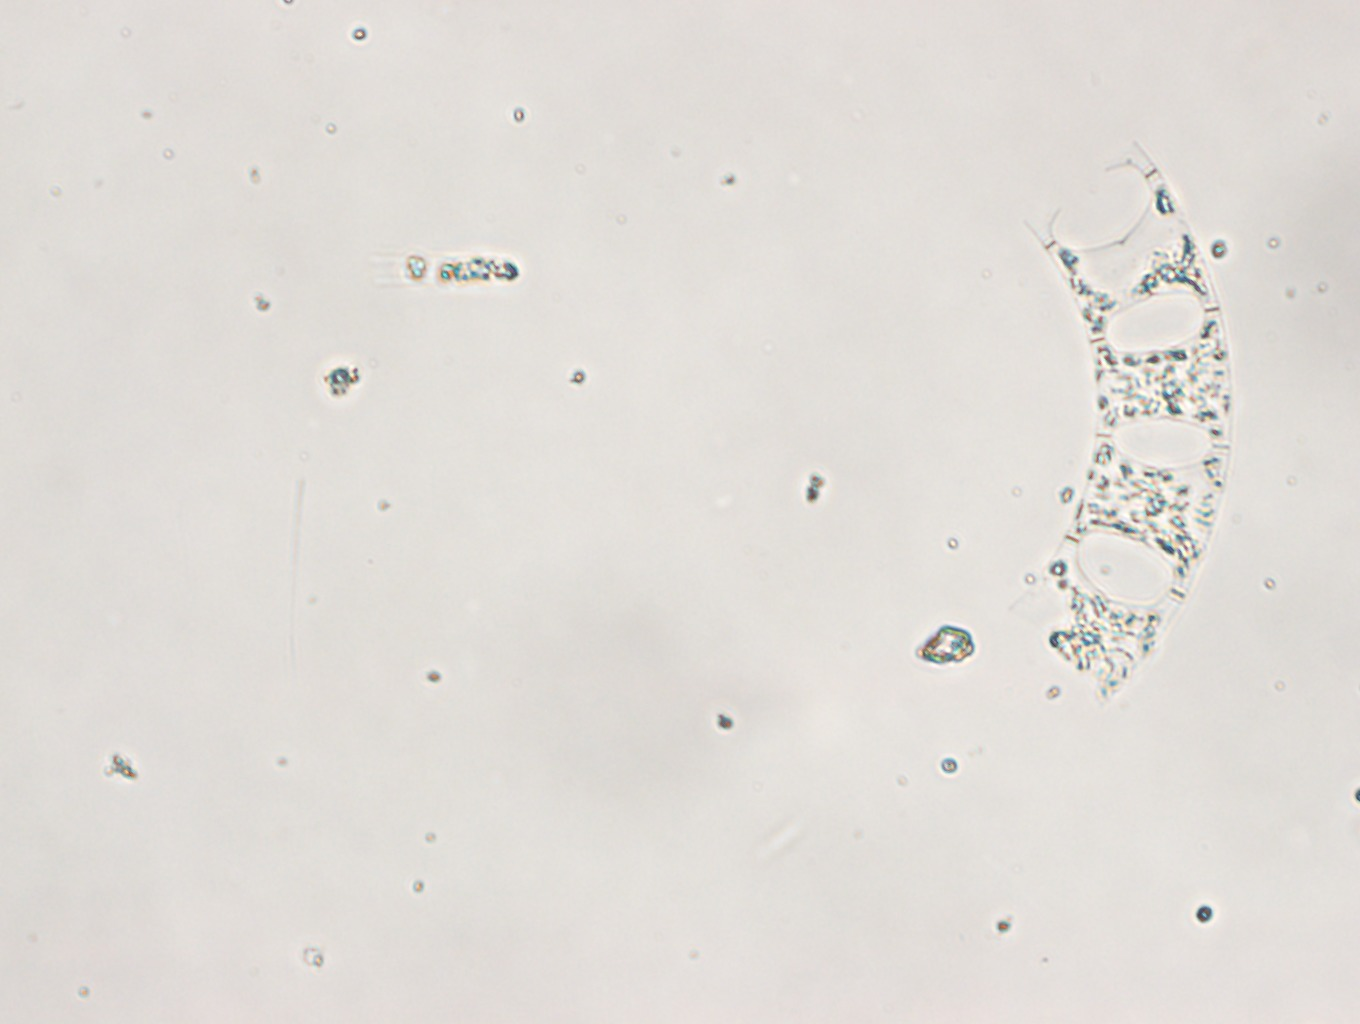eucampia: (1019, 141, 1236, 710)
